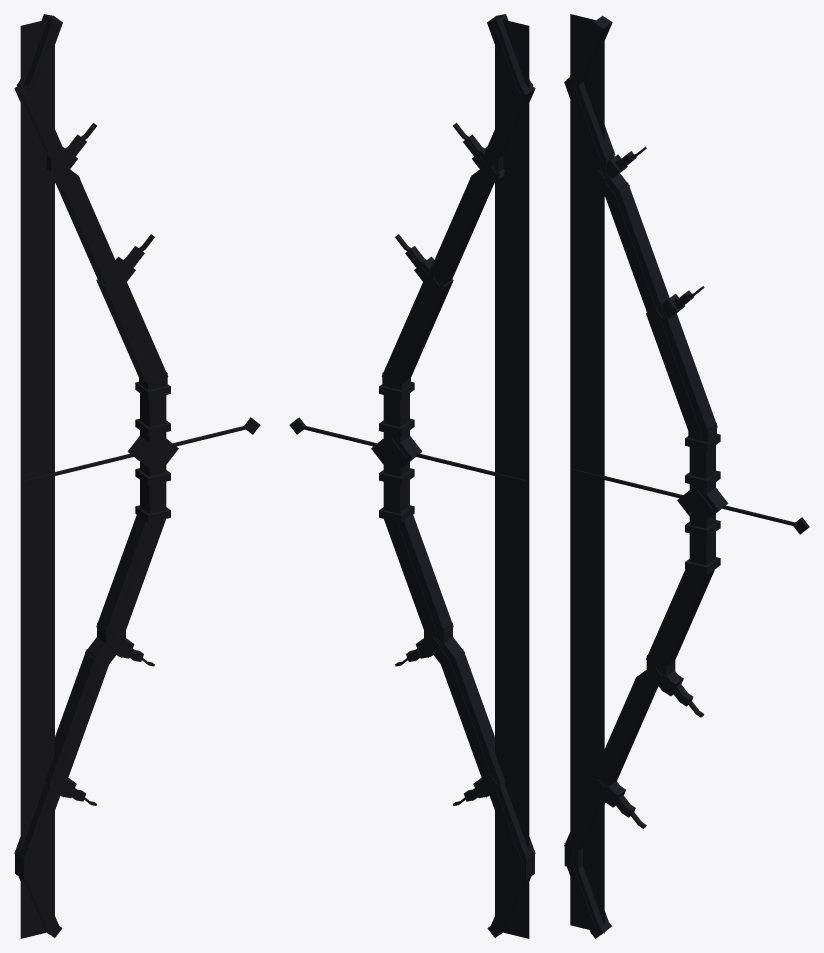
The model's file is requiem_recurve_pulling_0_smooth.obj.
3 renders of one model, left to right at view 1: azimuth 30°, elevation 25°; view 2: azimuth 150°, elevation 25°; view 3: azimuth 330°, elevation 25°, orthographic.
Parts seen in each view (by area): view 1: requiem_recurve_pulling_0; view 2: requiem_recurve_pulling_0; view 3: requiem_recurve_pulling_0.
Part boxes in pixels (x1=…): requiem_recurve_pulling_0: x1=14, y1=14, x2=260, y2=938; requiem_recurve_pulling_0: x1=289, y1=14, x2=535, y2=938; requiem_recurve_pulling_0: x1=564, y1=14, x2=809, y2=938.
Bounding box in the file's own units: 0.7626 × 2.78 × 0.0717.
